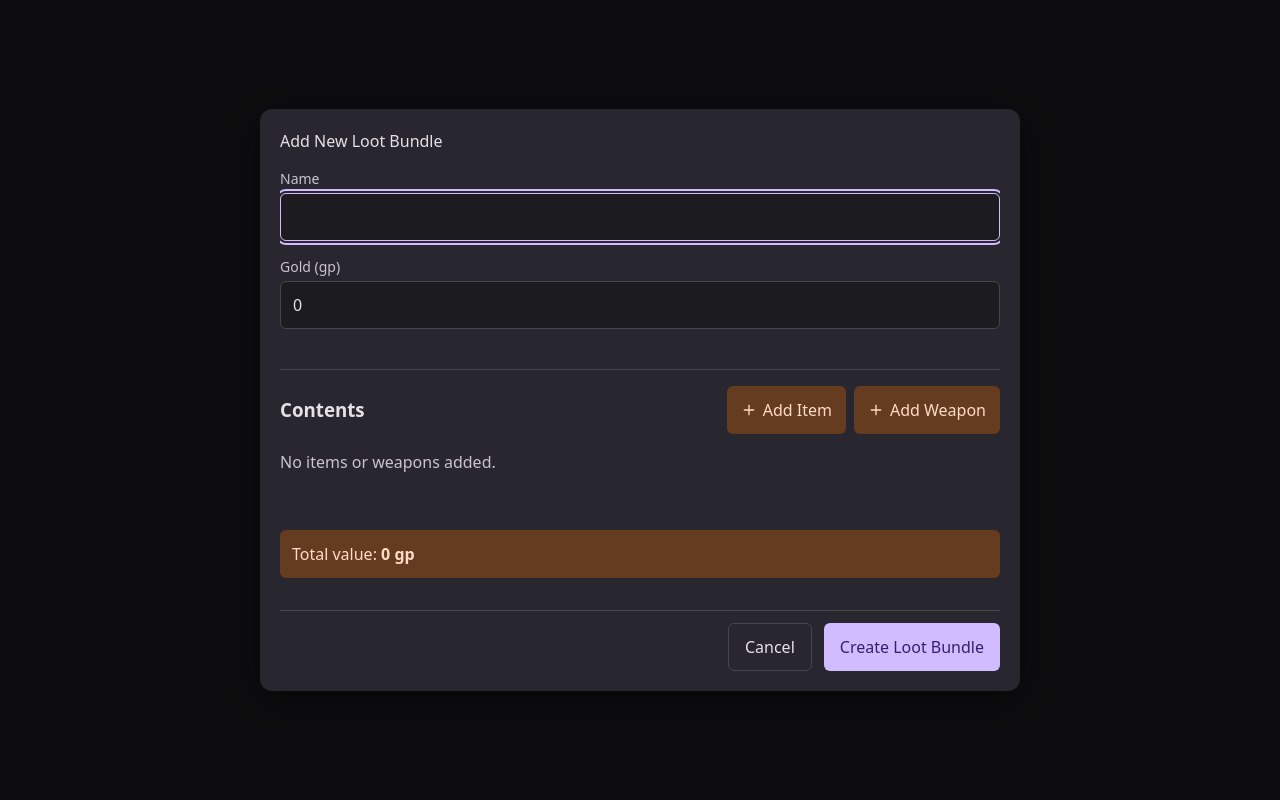
Scenario: LootBundleEditor Dialog contract › reports save status via an accessible status region
In the field labelled "Name": (640, 217) x1=280 y1=193 x2=1000 y2=241, type "Chest"
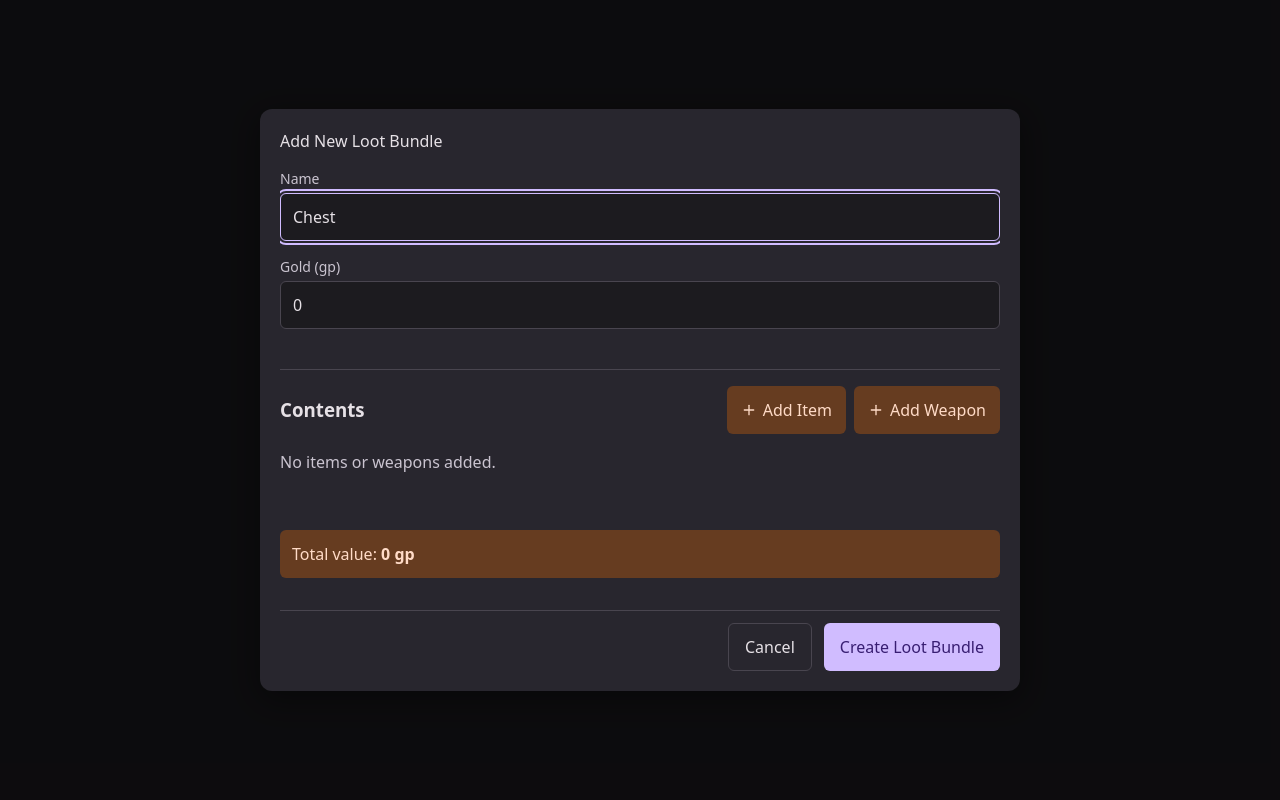
Click the button "Create Loot Bundle": (912, 647) x1=824 y1=623 x2=1000 y2=671
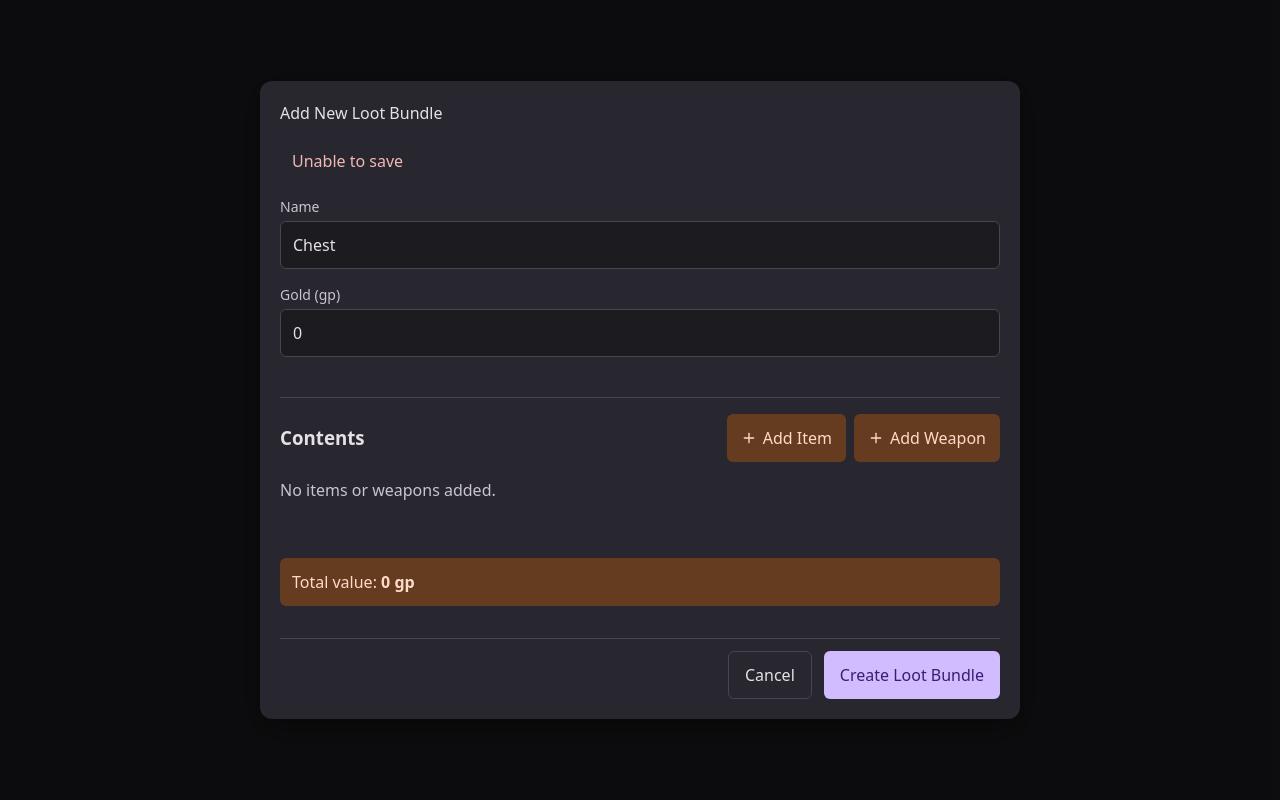
Now the message reads "Unable to save", box x1=292 y1=150 x2=403 y2=172
